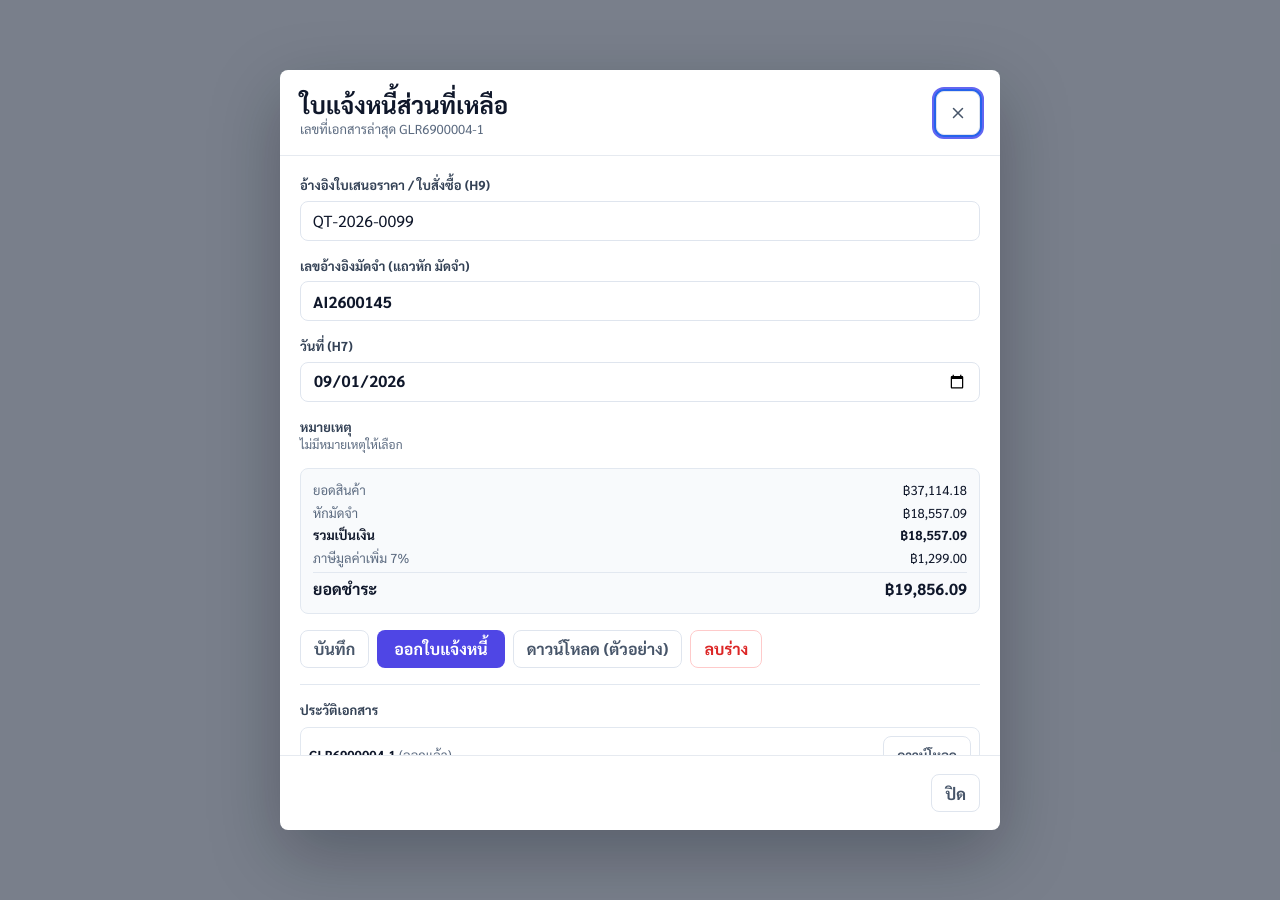
Test case: RemainingInvoiceDialog — a live DRAFT exists › W4-07 confirm before issuing › revision: shows the predicted next number from the ISSUED row of the same quotation
Expected: the element with test id "remaining-invoice-draft-editor" is shown, [300, 176, 980, 668]
Click the button with test id "remaining-invoice-issue": (441, 648) [377, 630, 505, 668]
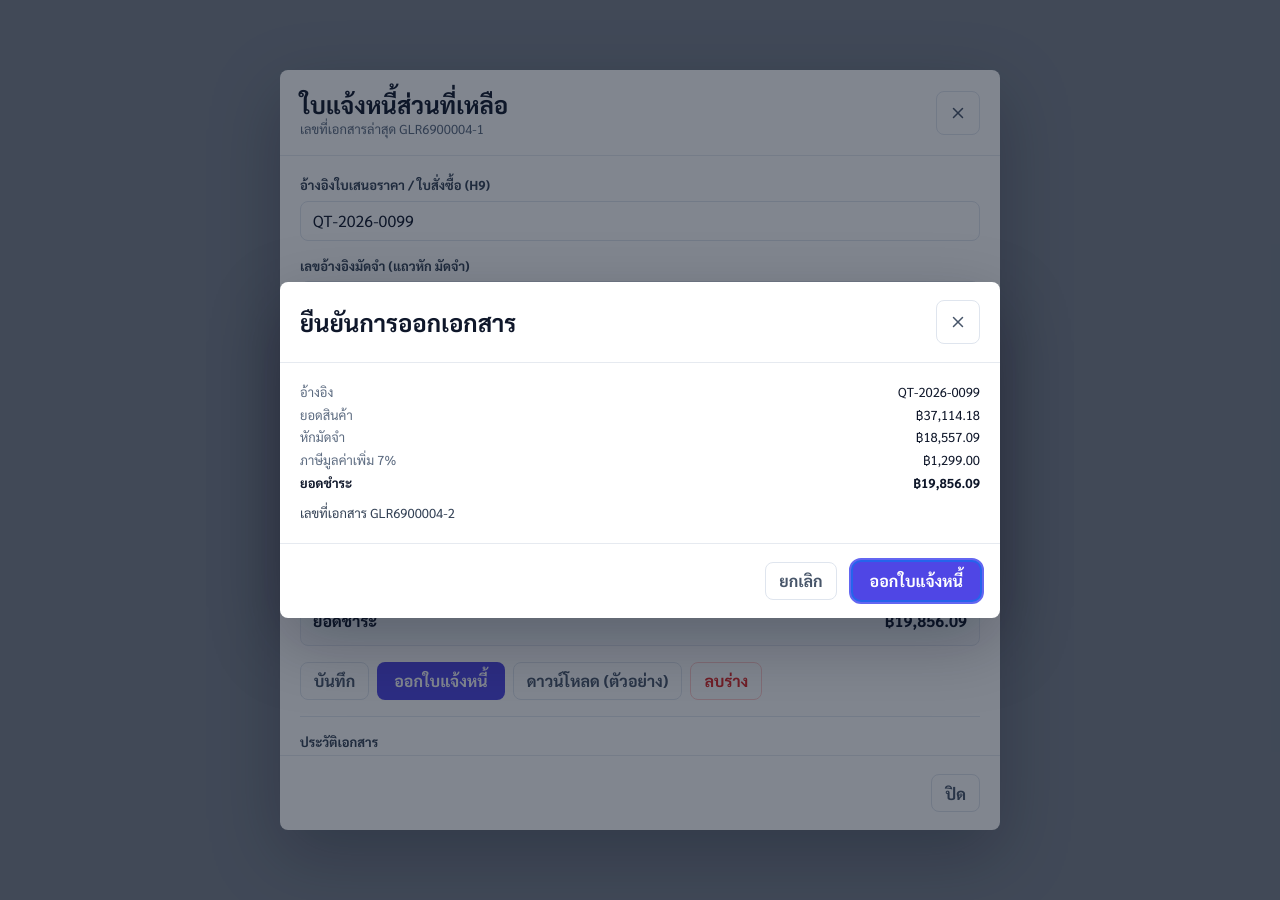
Expected: the dialog "ยืนยันการออกเอกสาร" shows "GLR6900004-2", [300, 504, 455, 521]
